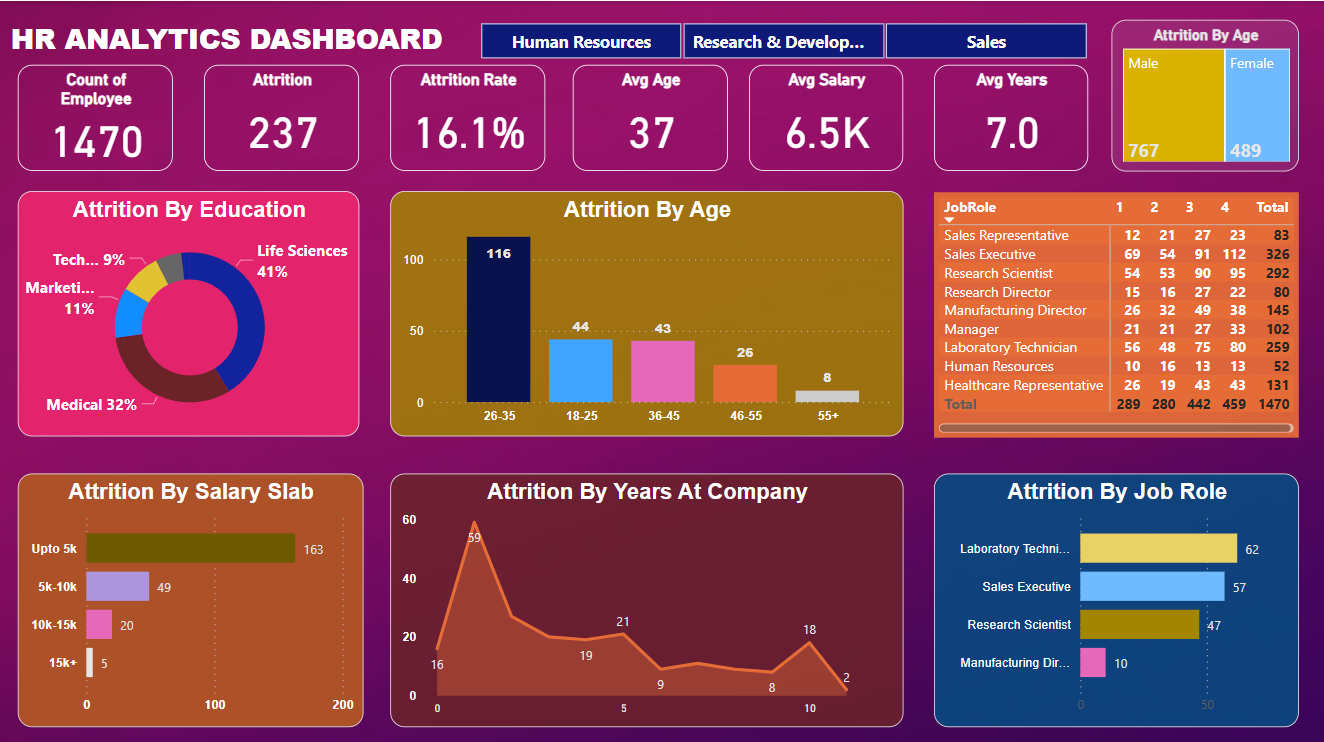

Layout of this report page (visuals, bound fields, positions):
{"tool":"powerbi","page":{"name":"Page 1","canvas":[1280,720],"ordinal":0},"visuals":[{"type":"card","title":"Count of Employee","fields":{"Values":["CountNonNull(HR_Analytics.EmpID)"]},"box":[17.9,61.9,150,102.3],"z":0},{"type":"card","title":"Attrition Rate","fields":{"Values":["HR_Analytics.Attrition Rate"]},"box":[377.3,61.9,150,102.3],"z":1000},{"type":"card","title":"Avg Age","fields":{"Values":["Avg(HR_Analytics.Age)"]},"box":[553.4,61.9,150,102.3],"z":2000},{"type":"card","title":"Avg Salary","fields":{"Values":["Avg(HR_Analytics.MonthlyIncome)"]},"box":[723.6,61.9,148.8,102.3],"z":3000},{"type":"card","title":"Avg Years","fields":{"Values":["Avg(HR_Analytics.YearsAtCompany)"]},"box":[902.1,61.9,148.8,102.3],"z":4000},{"type":"donutChart","title":"Attrition By Education","fields":{"Category":["HR_Analytics.EducationField"],"Y":["CountNonNull(HR_Analytics.Attrition Count)"]},"box":[17.9,183.3,329.7,236.8],"z":5000},{"type":"columnChart","title":"Attrition By Age","fields":{"Category":["HR_Analytics.AgeGroup"],"Y":["Sum(HR_Analytics.Attrition Count)"]},"box":[377.3,183.3,495.1,236.8],"z":6000},{"type":"card","title":"Attrition","fields":{"Values":["Sum(HR_Analytics.Attrition Count)"]},"box":[197.6,61.9,150,102.3],"z":8000},{"type":"barChart","title":"Attrition By Salary Slab","fields":{"Category":["HR_Analytics.SalarySlab"],"Y":["Sum(HR_Analytics.Attrition Count)"]},"box":[17.9,455.8,333.2,245.2],"z":9000},{"type":"barChart","title":"Attrition By Job Role","fields":{"Category":["HR_Analytics.JobRole"],"Y":["Sum(HR_Analytics.Attrition Count)"]},"box":[902.1,455.8,352.3,245.2],"z":10000},{"type":"areaChart","title":"Attrition By Years At Company","fields":{"Category":["HR_Analytics.YearsAtCompany"],"Y":["Sum(HR_Analytics.Attrition Count)"]},"box":[377.3,455.8,495.1,245.2],"z":11000},{"type":"treemap","title":"Attrition By Age","fields":{"Group":["HR_Analytics.Gender"],"Values":["CountNonNull(HR_Analytics.Attrition Count)"]},"box":[1073.5,17.9,180.9,146.4],"z":12000},{"type":"textbox","box":[0,11.9,439.1,50],"z":13000},{"type":"slicer","fields":{"Values":["HR_Analytics.Department"]},"box":[439.1,14.3,634.3,47.6],"z":14000},{"type":"pivotTable","fields":{"Rows":["HR_Analytics.JobRole"],"Columns":["HR_Analytics.JobSatisfaction"],"Values":["CountNonNull(HR_Analytics.Attrition Count)"]},"box":[902.1,184.5,352.3,236.8],"z":15000}]}

Visuals, with their boxes in screenshot pixels (x1, y1, x2, y2), scaled from the page's 1280x720 canvas onto the 1324x742 screenshot:
"Count of Employee" card: (19,64,174,169)
"Attrition Rate" card: (390,64,545,169)
"Avg Age" card: (572,64,728,169)
"Avg Salary" card: (748,64,902,169)
"Avg Years" card: (933,64,1087,169)
"Attrition By Education" donutChart: (19,189,360,433)
"Attrition By Age" columnChart: (390,189,902,433)
"Attrition" card: (204,64,360,169)
"Attrition By Salary Slab" barChart: (19,470,363,722)
"Attrition By Job Role" barChart: (933,470,1298,722)
"Attrition By Years At Company" areaChart: (390,470,902,722)
"Attrition By Age" treemap: (1110,18,1298,169)
textbox: (0,12,454,64)
slicer - HR_Analytics.Department: (454,15,1110,64)
pivotTable - HR_Analytics.JobRole x HR_Analytics.JobSatisfaction: (933,190,1298,434)
